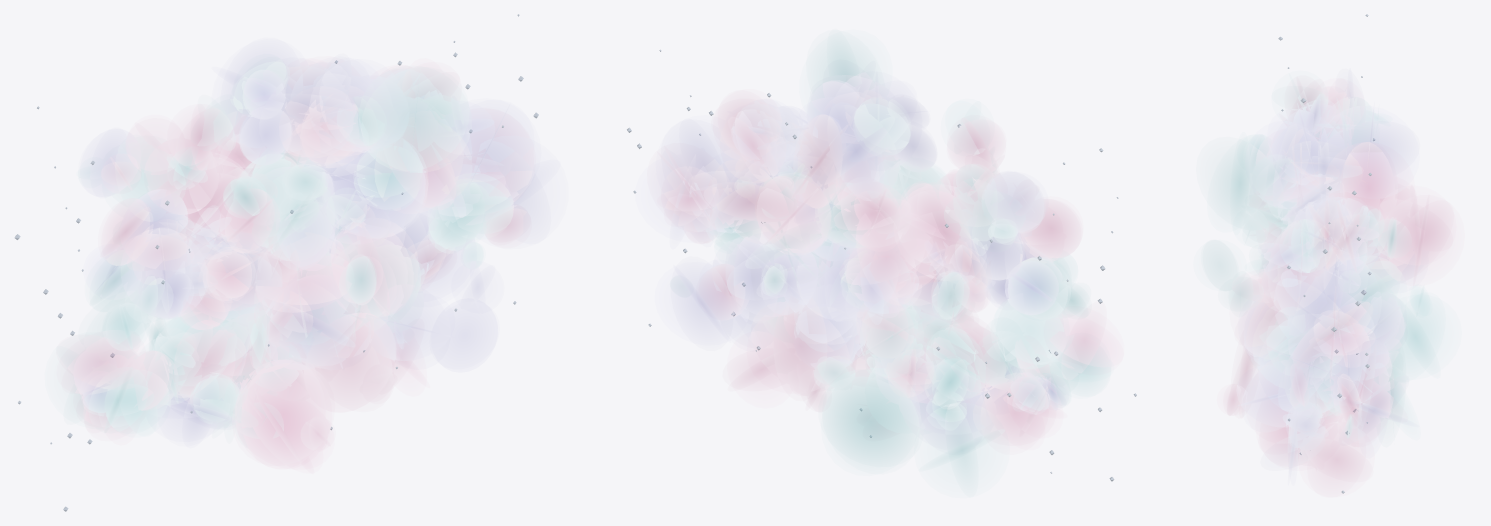
3 views of the same model, side by side, from view 1: azimuth 30°, elevation 25°; view 2: azimuth 150°, elevation 25°; view 3: azimuth 270°, elevation 25° (orthographic). The views are drawn at different scales.
Size of the model in its own units: 6.13 by 4.65 by 3.26.
